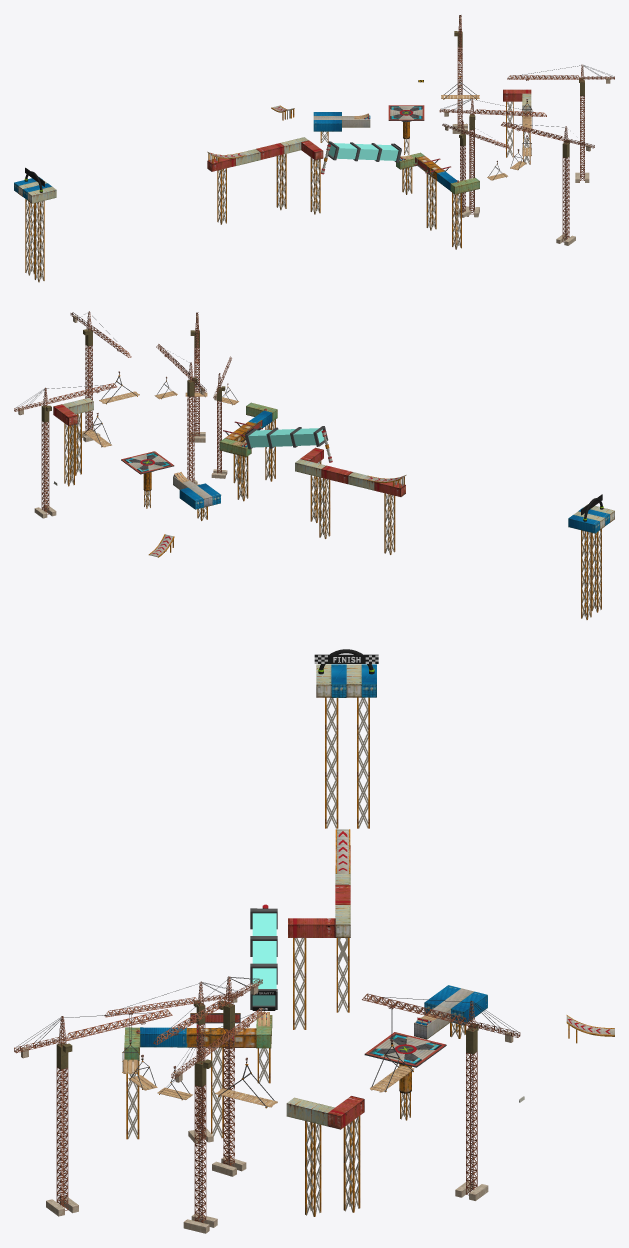
File: 12_Parkour.fbx
3 views of the same model, one above another, from view 1: azimuth 30°, elevation 25°; view 2: azimuth 150°, elevation 25°; view 3: azimuth 270°, elevation 25° (orthographic). The views are drawn at different scales.
Parts seen in each view (by area): view 1: Crane1__3_, Crane1__1_, Crane1__2_, NoGravityZone, Crane1__4_, Crane1, BalancePlatformMoving; view 2: Crane1, Crane1__1_, Crane1__2_, NoGravityZone, Crane1__3_, BalancePlatformMoving, Crane1__4_; view 3: Crane1__3_, Crane1, Crane1__1_, Crane1__2_, Crane1__4_, NoGravityZone, BalancePlatformMoving, stcontainerorange, stcontainerred__5_, stcontainerblue, stcontainerwhite__1_, finishObject (+2 smaller).
Part boxes in pixels (x1,y1,x2,y2): Crane1__3_: [501, 122, 594, 245]; Crane1__1_: [507, 64, 614, 182]; Crane1__2_: [439, 98, 546, 217]; NoGravityZone: [328, 143, 398, 160]; Crane1__4_: [442, 121, 510, 217]; Crane1: [452, 15, 467, 133]; BalancePlatformMoving: [388, 105, 424, 120]; Crane1: [14, 383, 116, 518]; Crane1__1_: [70, 311, 131, 441]; Crane1__2_: [156, 344, 206, 485]; NoGravityZone: [248, 428, 324, 447]; Crane1__3_: [189, 312, 205, 442]; BalancePlatformMoving: [121, 451, 174, 474]; Crane1__4_: [211, 356, 231, 478]; Crane1__3_: [14, 1009, 172, 1216]; Crane1: [362, 993, 520, 1200]; Crane1__1_: [171, 1008, 265, 1233]; Crane1__2_: [153, 976, 262, 1176]; Crane1__4_: [104, 981, 243, 1143]; NoGravityZone: [252, 913, 276, 1005]; BalancePlatformMoving: [364, 1032, 446, 1067]; stcontainerorange: [186, 1028, 256, 1047]; stcontainerred__5_: [288, 918, 335, 937]; stcontainerblue: [139, 1027, 187, 1047]; stcontainerwhite__1_: [286, 1097, 334, 1126]; finishObject: [314, 649, 378, 674].
Size of the model in its own units: 36518 by 8595 by 21005.
